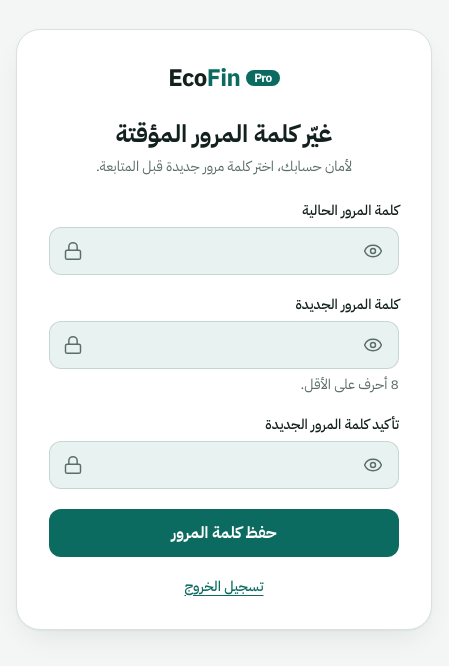
Test: ChangePasswordPage › shows the wrong-current-password error under the field
The width and height of the screenshot is (449, 666).
Type "wrong-password" into the password field labelled "كلمة المرور الحالية" at (224, 250), box [49,226,399,274]
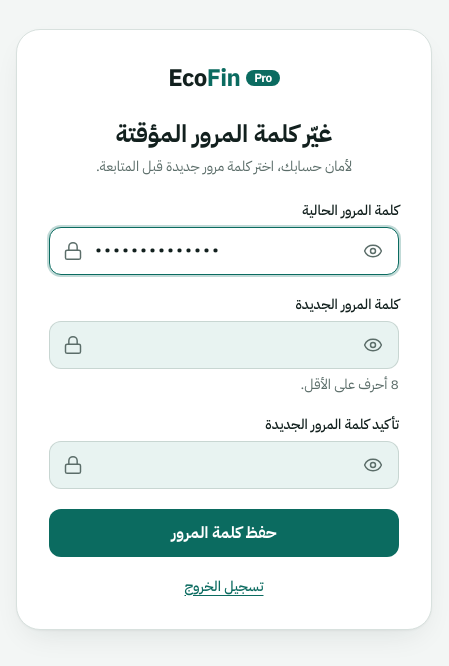
Type "brand-new-pw" into the password field labelled "كلمة المرور الجديدة" at (224, 344), box [49,320,399,368]
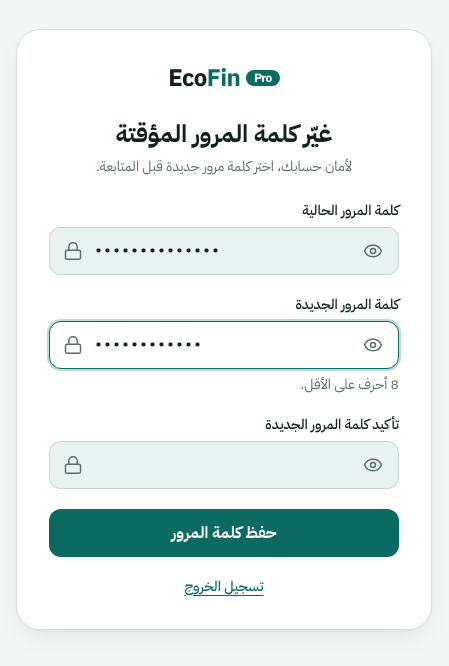
Type "brand-new-pw" into the password field labelled "تأكيد كلمة المرور الجديدة" at (224, 464), box [49,440,399,488]
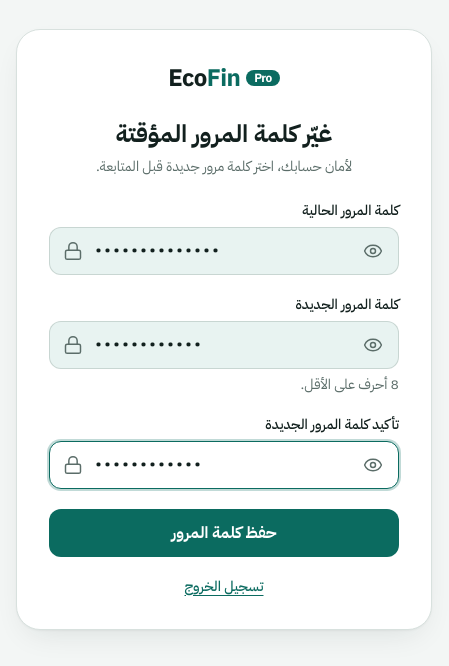
Click the button "حفظ كلمة المرور" at (224, 532), box [49,508,399,556]
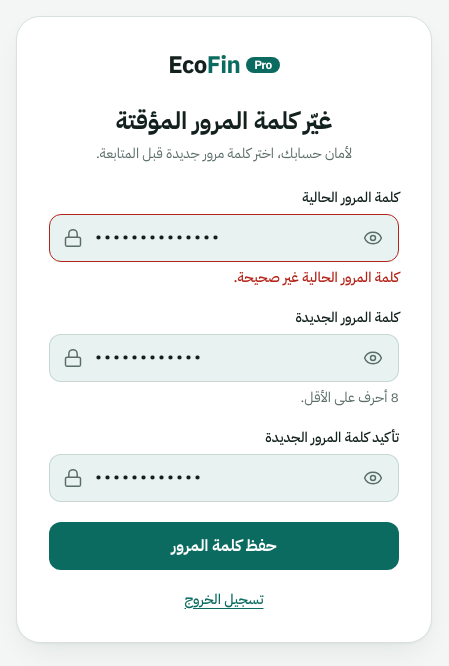
Result: the text "كلمة المرور الحالية غير صحيحة." is shown at [234,266,399,288]
